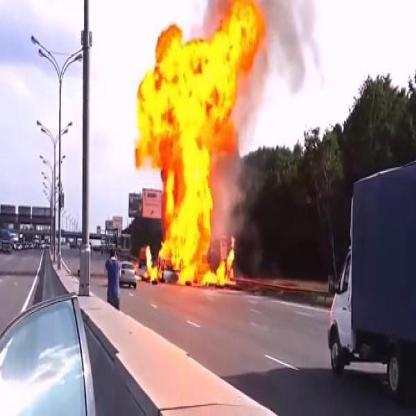fire: (132, 0, 267, 290)
